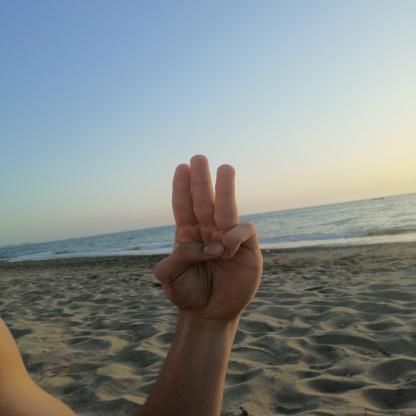THA: (138, 146, 274, 326)
